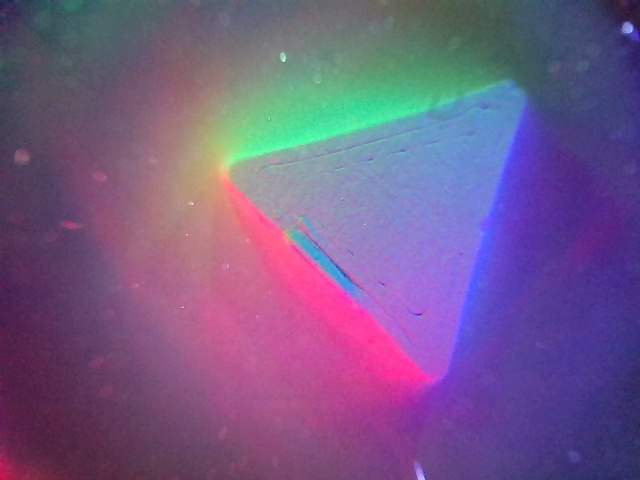contact: (231, 83, 520, 374)
